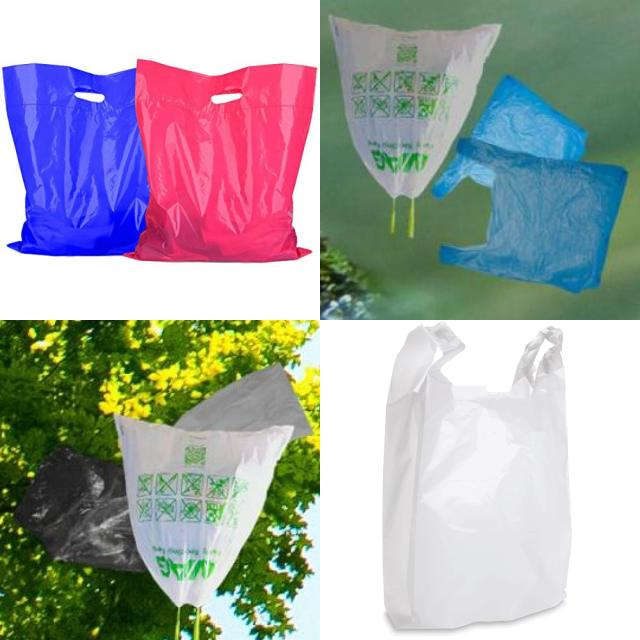Single-layer Plastic: (384, 324, 571, 628), (329, 16, 501, 238), (128, 60, 316, 262), (115, 415, 292, 608), (2, 64, 150, 256), (440, 140, 626, 292), (426, 64, 603, 201), (16, 446, 146, 571), (175, 364, 312, 438)
